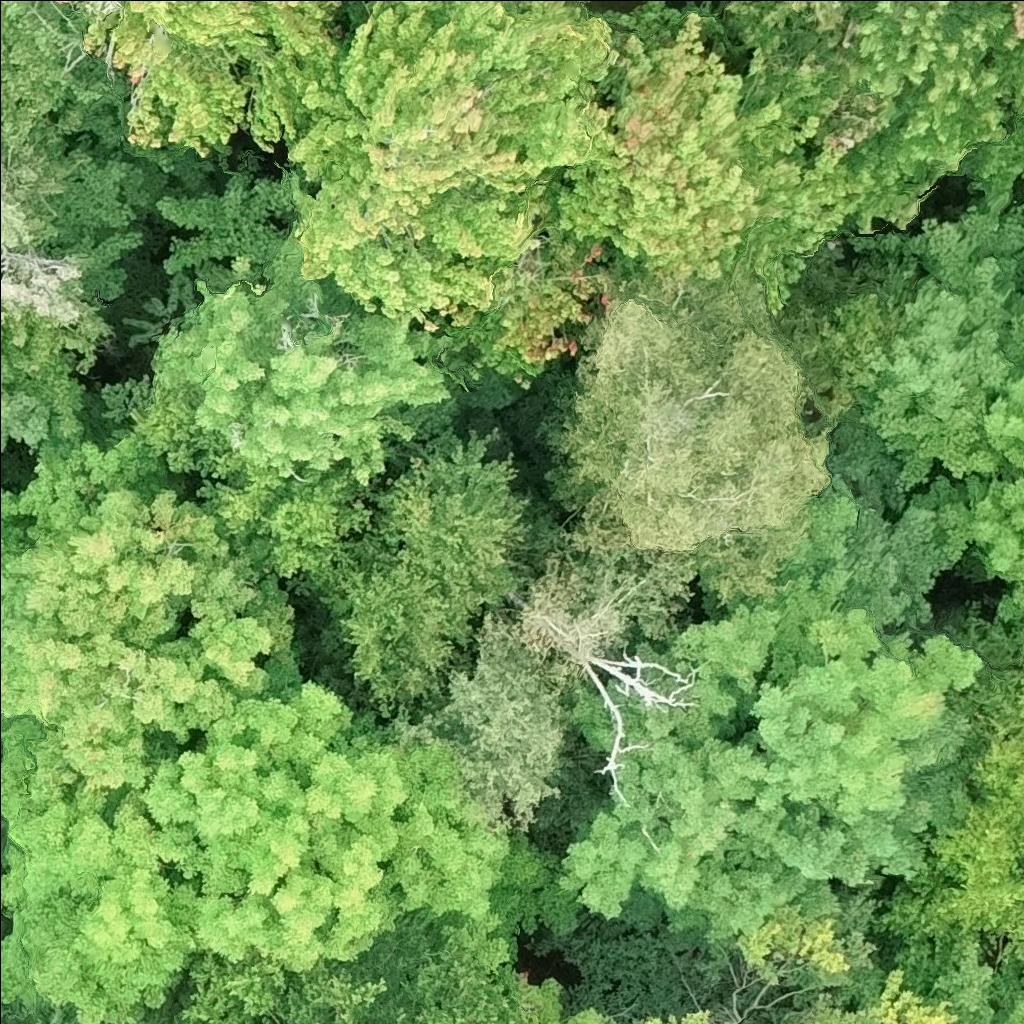crown: (557, 561, 986, 945), (136, 680, 582, 979), (0, 431, 304, 795), (284, 0, 620, 328), (545, 0, 876, 317), (538, 258, 832, 603), (0, 0, 216, 442), (154, 226, 454, 483), (723, 0, 1011, 232), (319, 422, 535, 721), (0, 717, 201, 1023), (874, 600, 1023, 993), (855, 200, 1023, 496), (141, 921, 550, 1023), (85, 0, 340, 156), (447, 190, 632, 382), (420, 609, 573, 838), (916, 362, 1023, 618), (740, 902, 963, 1023), (954, 0, 1023, 218), (491, 964, 624, 1023), (923, 947, 1023, 1023), (0, 369, 55, 493), (642, 1009, 713, 1023), (32, 1002, 78, 1023), (0, 523, 6, 554)
